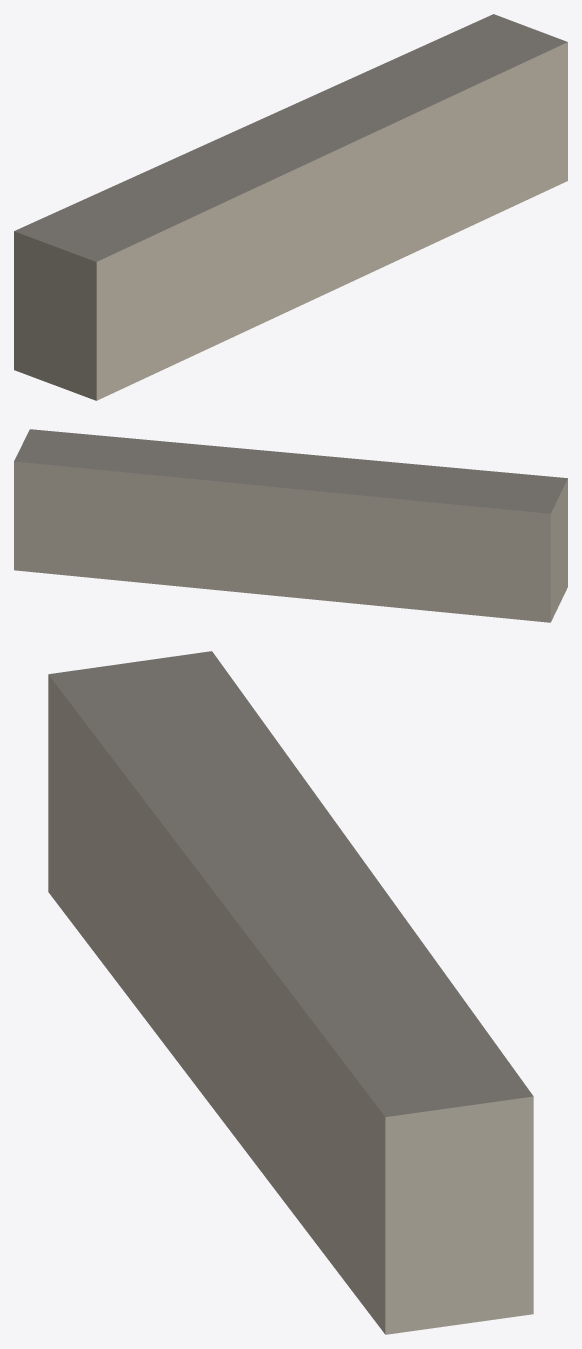
3 renders of one model, top to bottom at view 1: azimuth 30°, elevation 25°; view 2: azimuth 150°, elevation 25°; view 3: azimuth 270°, elevation 25°, orthographic. The views are drawn at different scales.
Visible parts, largest first — view 1: HP-w757510112; view 2: HP-w757510112; view 3: HP-w757510112.
Boxes of the visible parts, <box> form: HP-w757510112: <box>14,14,567,400</box>; HP-w757510112: <box>14,429,567,622</box>; HP-w757510112: <box>48,651,533,1334</box>.
Bounding box in the file's own units: 82.64 × 18 × 36.38.
